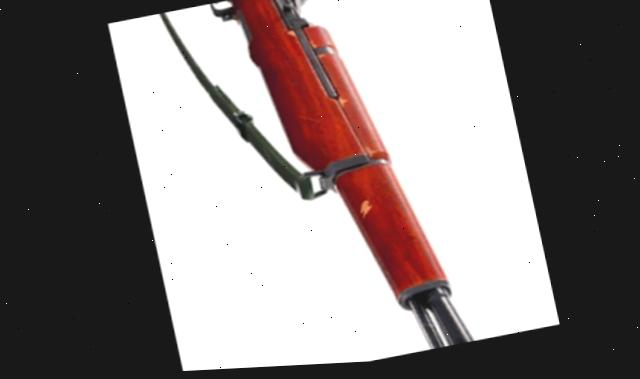rifle: (158, 0, 526, 373)
